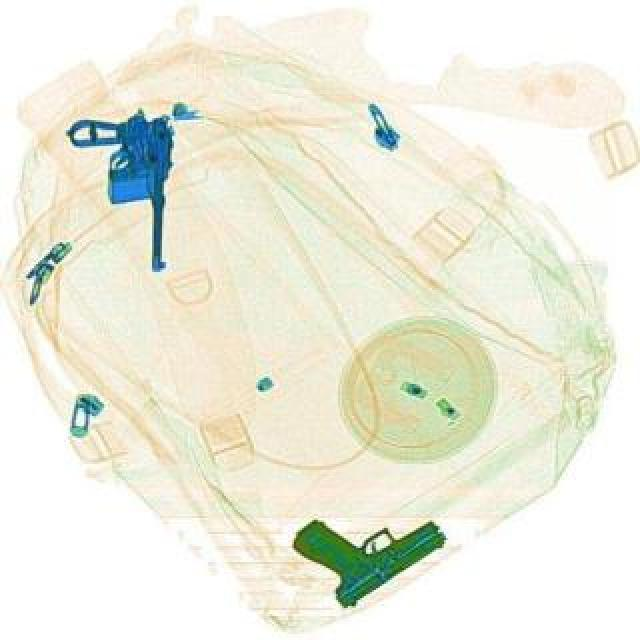gun: (280, 464, 452, 612), (56, 104, 174, 272)
